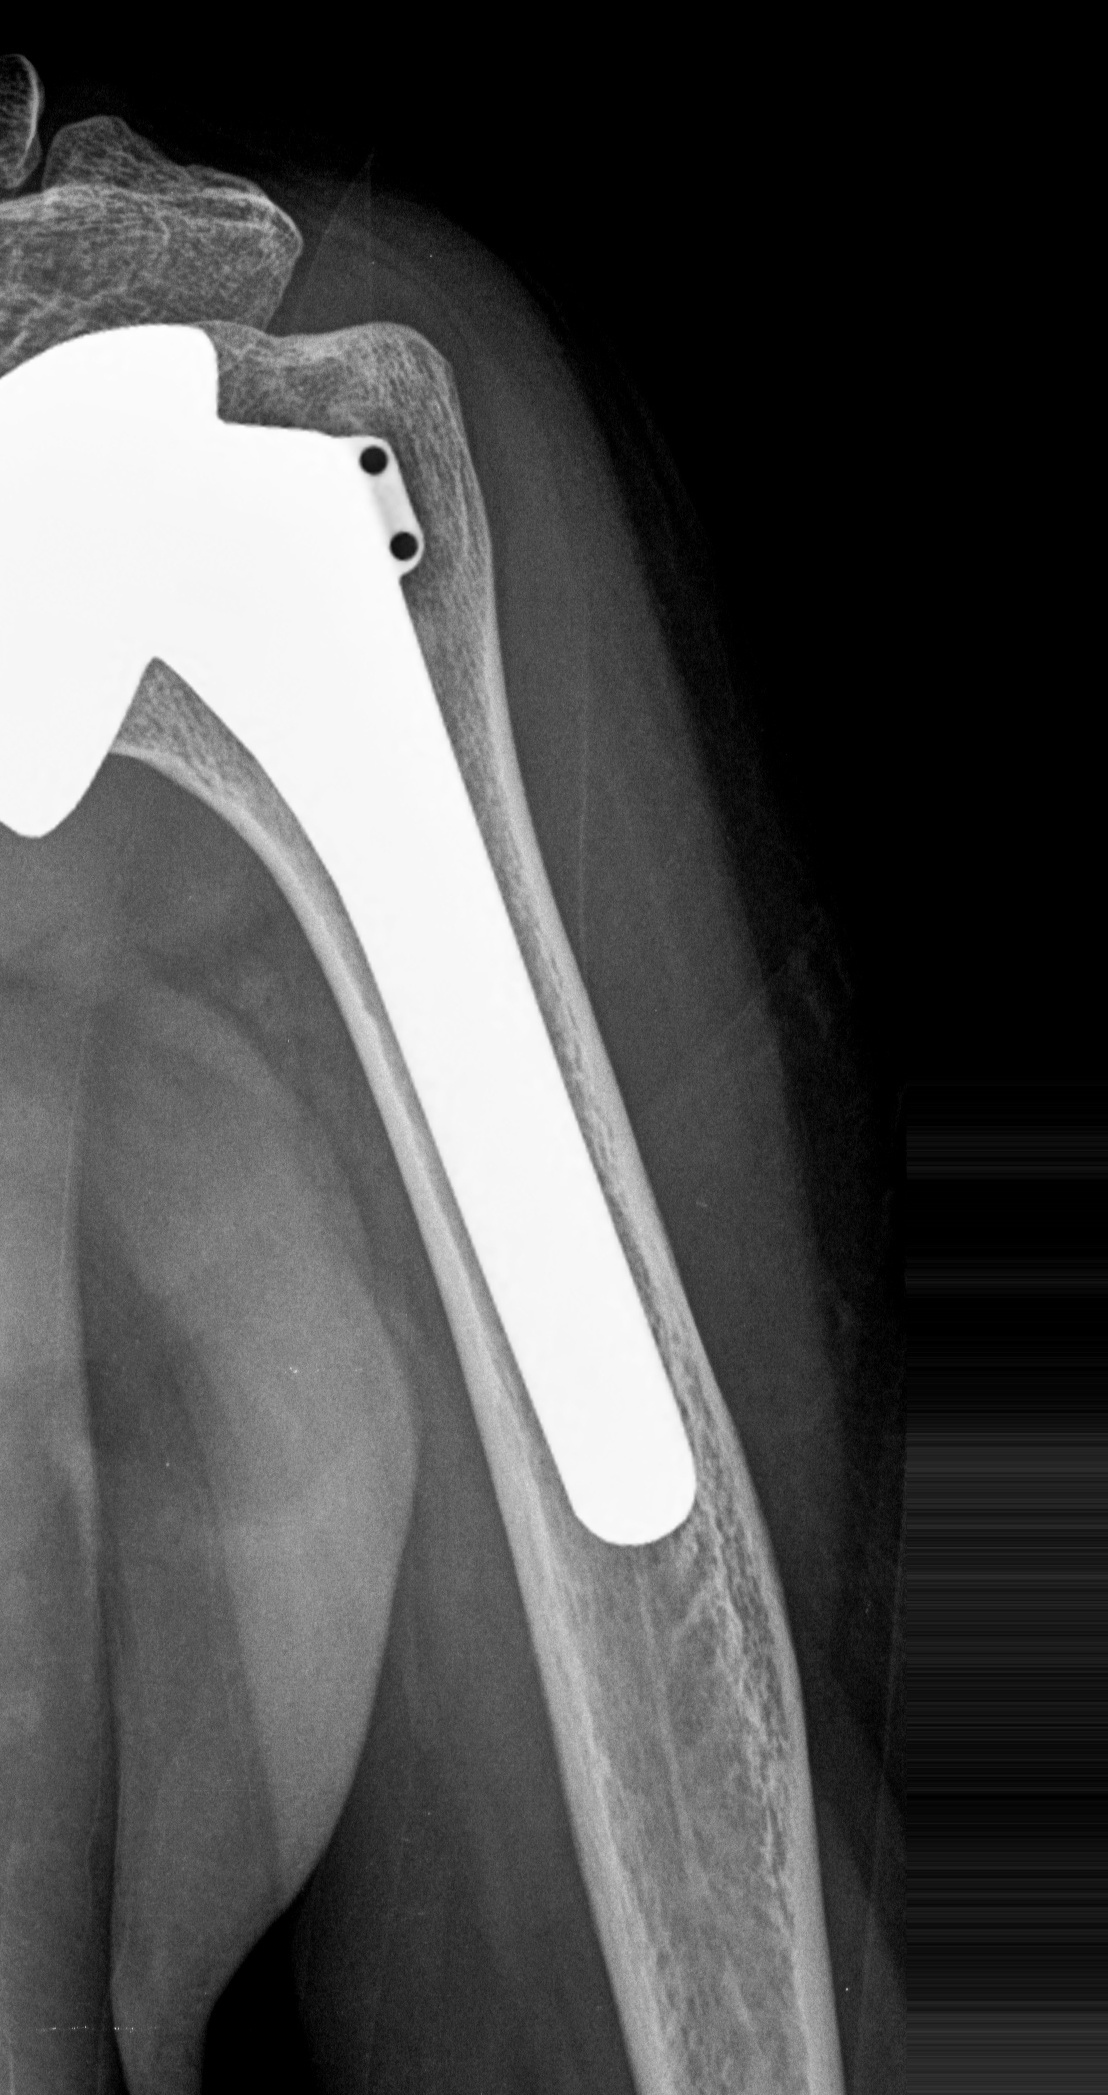Shoulder - AequalisPressfit - Tornier: (1, 301, 438, 844)
